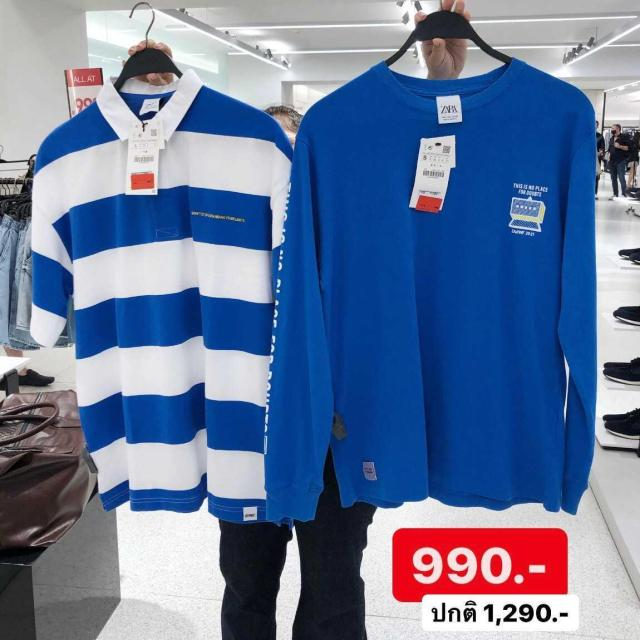Tshirt: (26, 69, 285, 522)
sweater: (269, 64, 602, 514)
